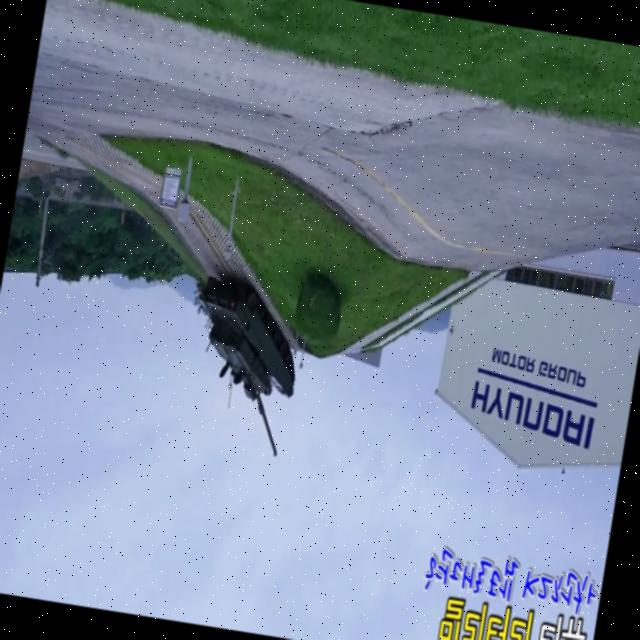korea tank: (165, 266, 316, 468)
